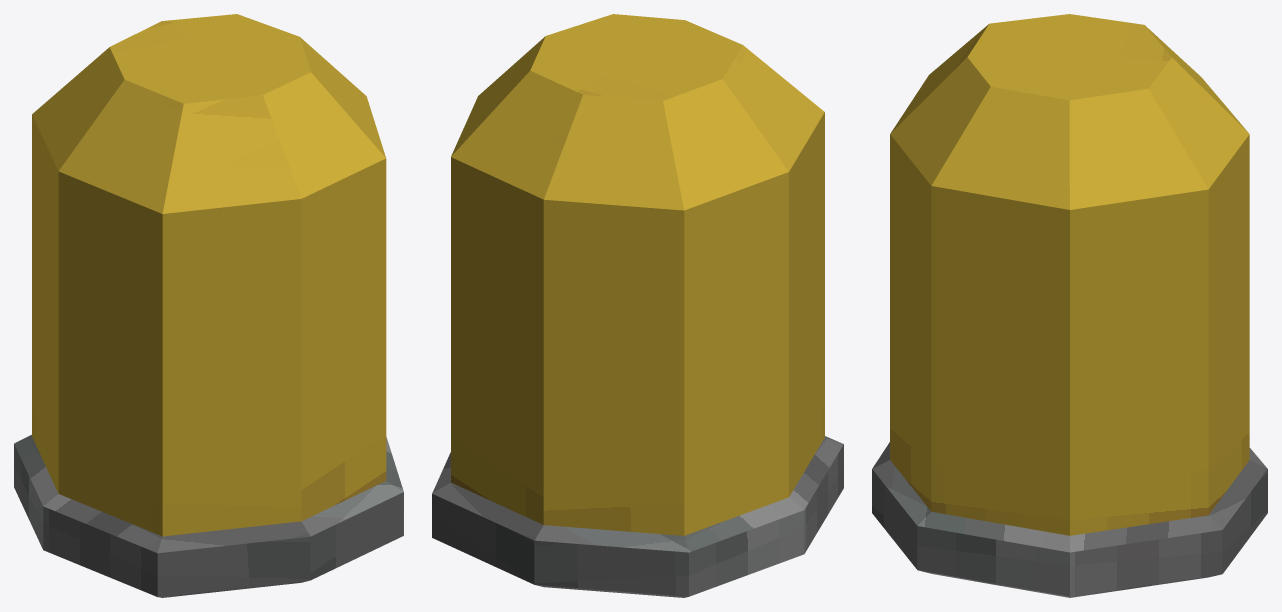
File: yellowlight.glb
3 views of the same model, side by side, from view 1: azimuth 30°, elevation 25°; view 2: azimuth 150°, elevation 25°; view 3: azimuth 270°, elevation 25° (orthographic).
Parts seen in each view (by area): view 1: Cube.012; view 2: Cube.012; view 3: Cube.012.
Part boxes in pixels (<box>): Cube.012: <box>14,14,403,597</box>; Cube.012: <box>432,14,843,597</box>; Cube.012: <box>872,14,1267,597</box>.
Size of the model in its own units: 0.3265 by 0.4229 by 0.3265.
Materials: 1 (1 with a texture image).
